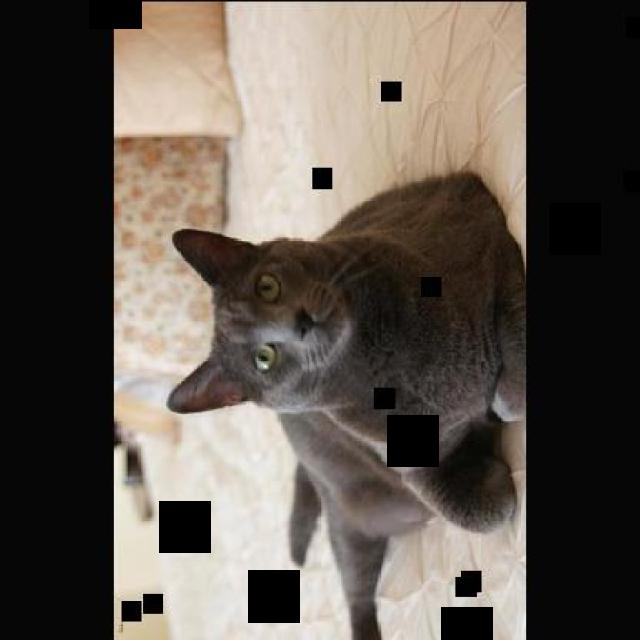unauthorized: (165, 170, 526, 638)
